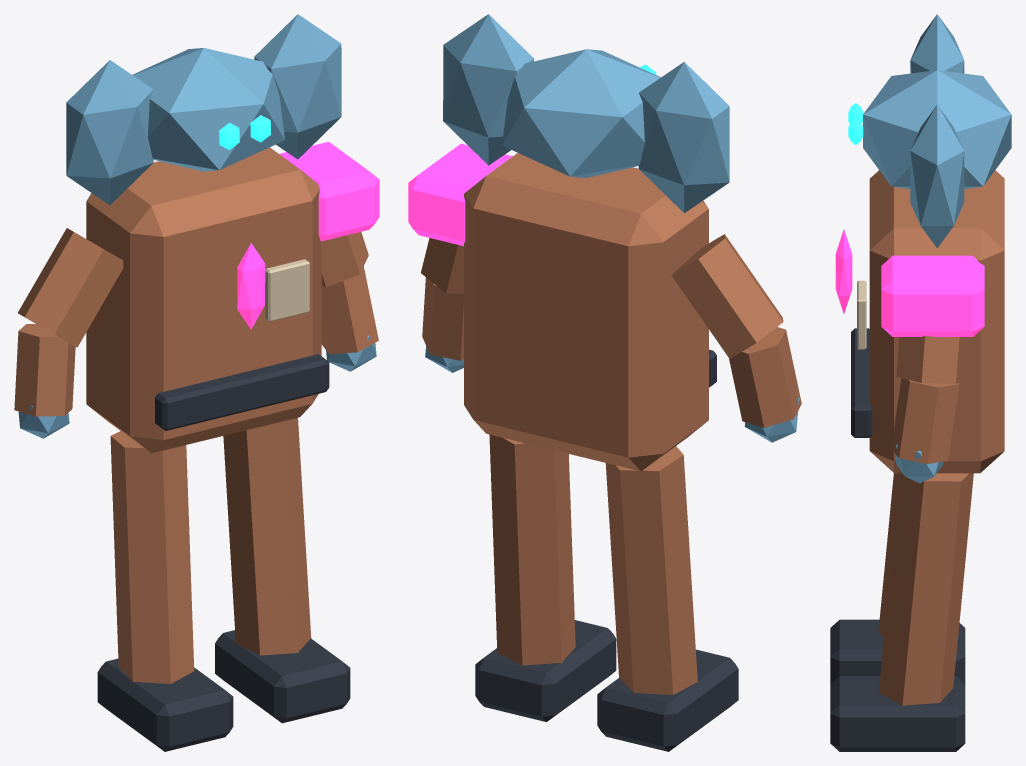
File: npcs_005_seed78877.glb
3 views of the same model, side by side, from view 1: azimuth 30°, elevation 25°; view 2: azimuth 150°, elevation 25°; view 3: azimuth 270°, elevation 25° (orthographic). The views are drawn at different scales.
Visible parts, largest first — view 1: npcs_005_seed78877; view 2: npcs_005_seed78877; view 3: npcs_005_seed78877.
Part boxes in pixels (box(x1,y1,x2,y2)): npcs_005_seed78877: box(14, 14, 379, 751); npcs_005_seed78877: box(408, 14, 801, 751); npcs_005_seed78877: box(830, 14, 1011, 751).
Size of the model in its own units: 0.9303 by 1.64 by 0.4138.
